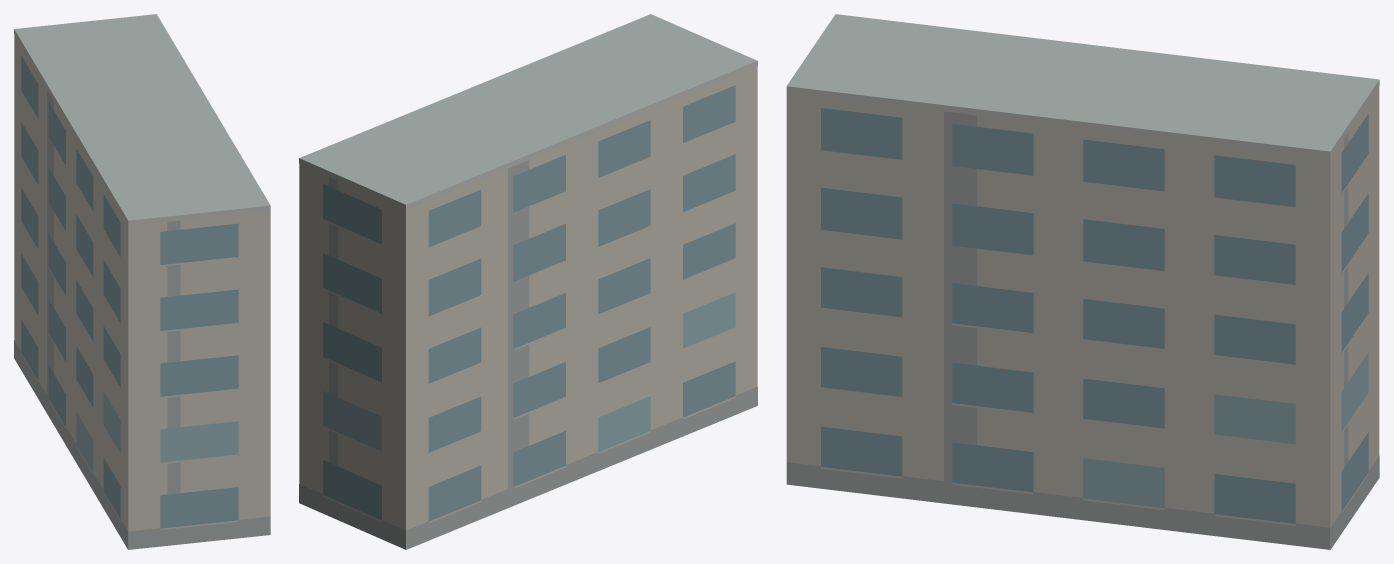
Rendered from survey-upis-32940166.glb.
The picture shows the model from 3 angles, left to right: view 1: azimuth 30°, elevation 25°; view 2: azimuth 150°, elevation 25°; view 3: azimuth 270°, elevation 25°; orthographic projection. The views are drawn at different scales.
Visible parts, largest first — view 1: survey-upis-32940166.tmp; view 2: survey-upis-32940166.tmp; view 3: survey-upis-32940166.tmp.
Boxes of the visible parts, <box> form: survey-upis-32940166.tmp: <box>14,14,270,549</box>; survey-upis-32940166.tmp: <box>299,14,757,549</box>; survey-upis-32940166.tmp: <box>786,14,1379,549</box>.
Size of the model in its own units: 11.31 by 15.25 by 20.59.
